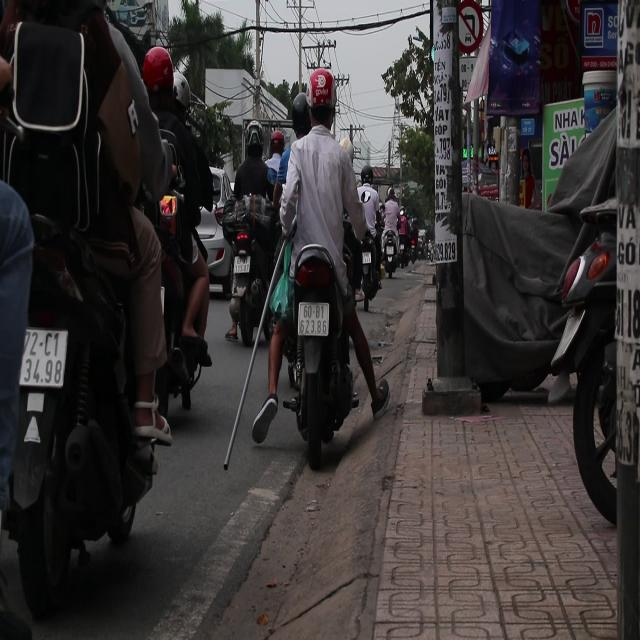car: (211, 168, 234, 222)
motorbike: (290, 253, 352, 439), (218, 194, 270, 342)
